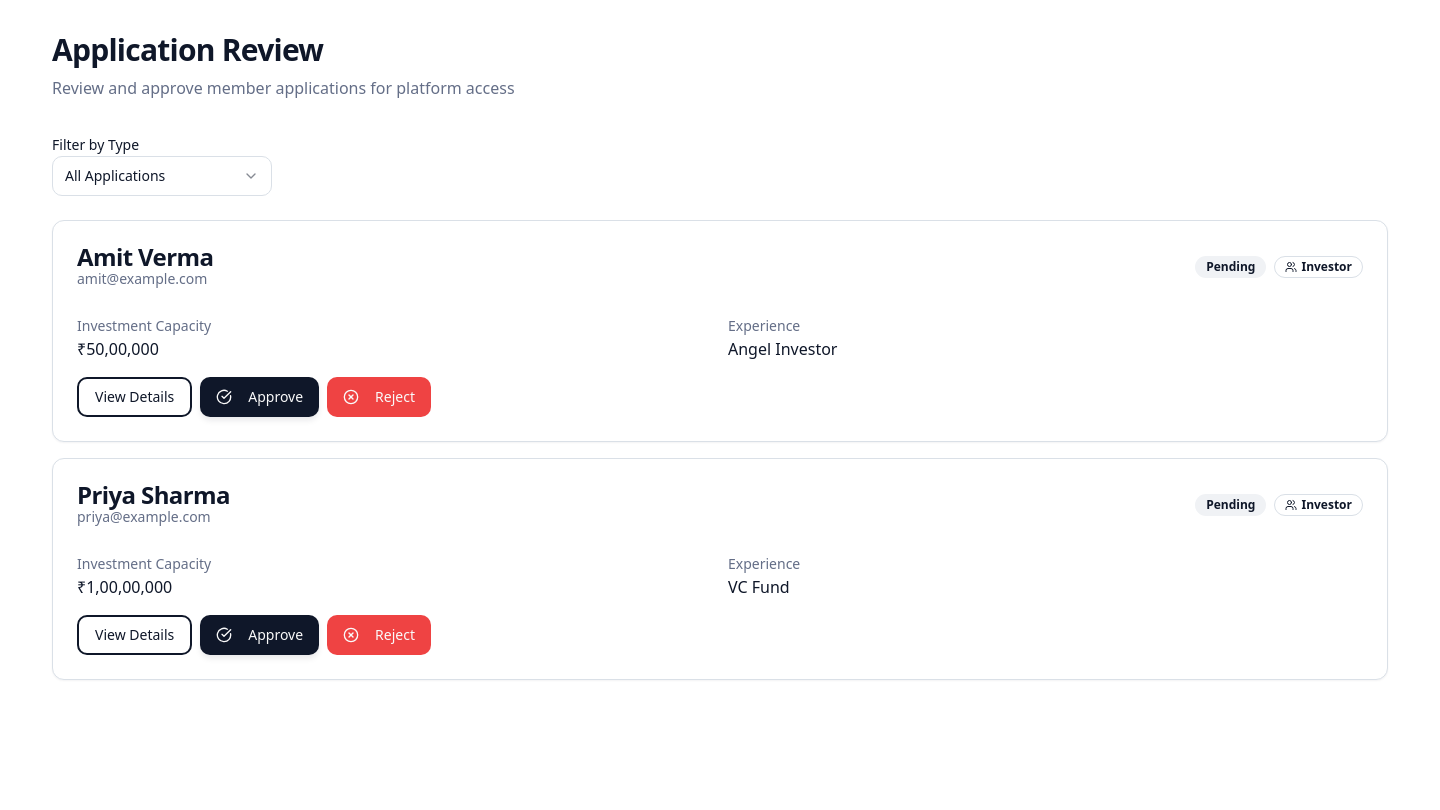
US-ADMIN-004: Application Review › Reject Application › should open rejection dialog with reason field
Check: the text "Amit Verma" is shown, box [77, 245, 213, 269]
Click the button "Reject" below "₹50,00,000": (379, 397) [327, 377, 431, 417]
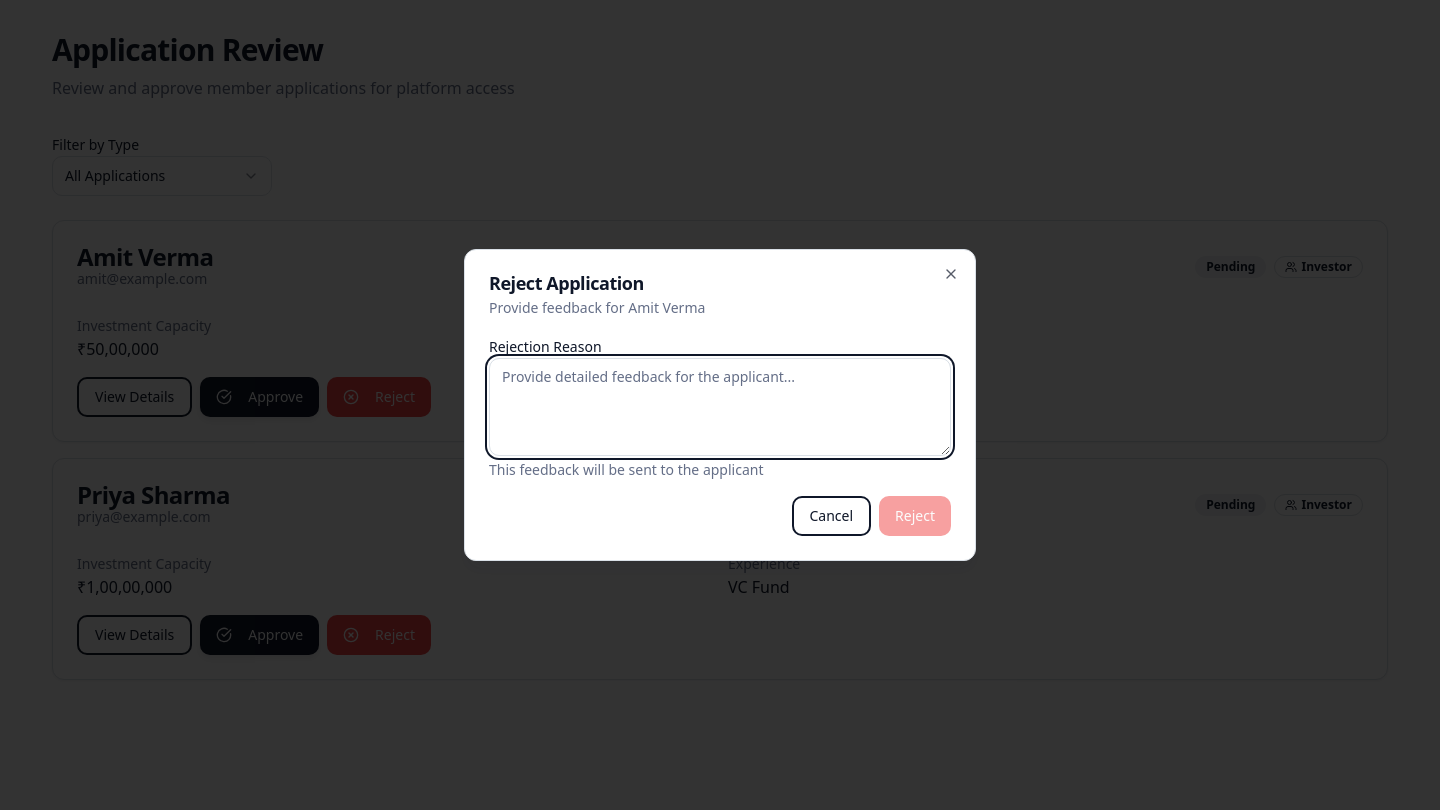
Check: the heading "Reject Application" is shown, box [489, 271, 644, 295]
Check: the text box labelled "Rejection Reason" is shown, box [489, 358, 951, 456]
